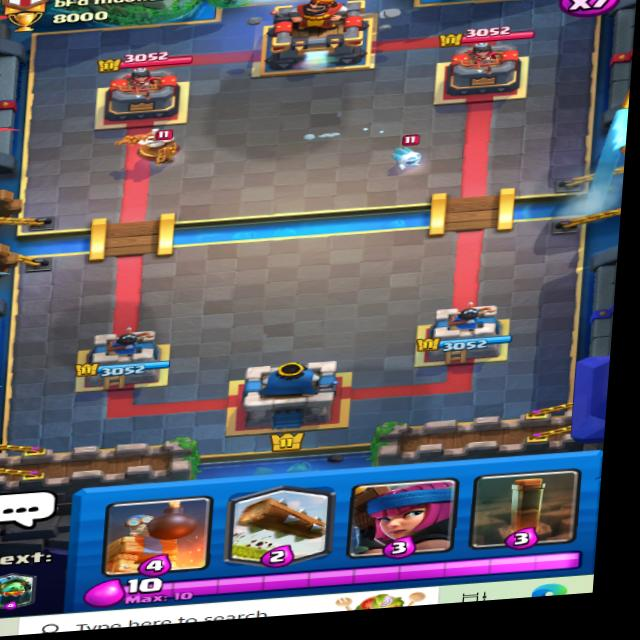Icespirit: (378, 135, 435, 173)
Monk: (110, 117, 194, 171)
